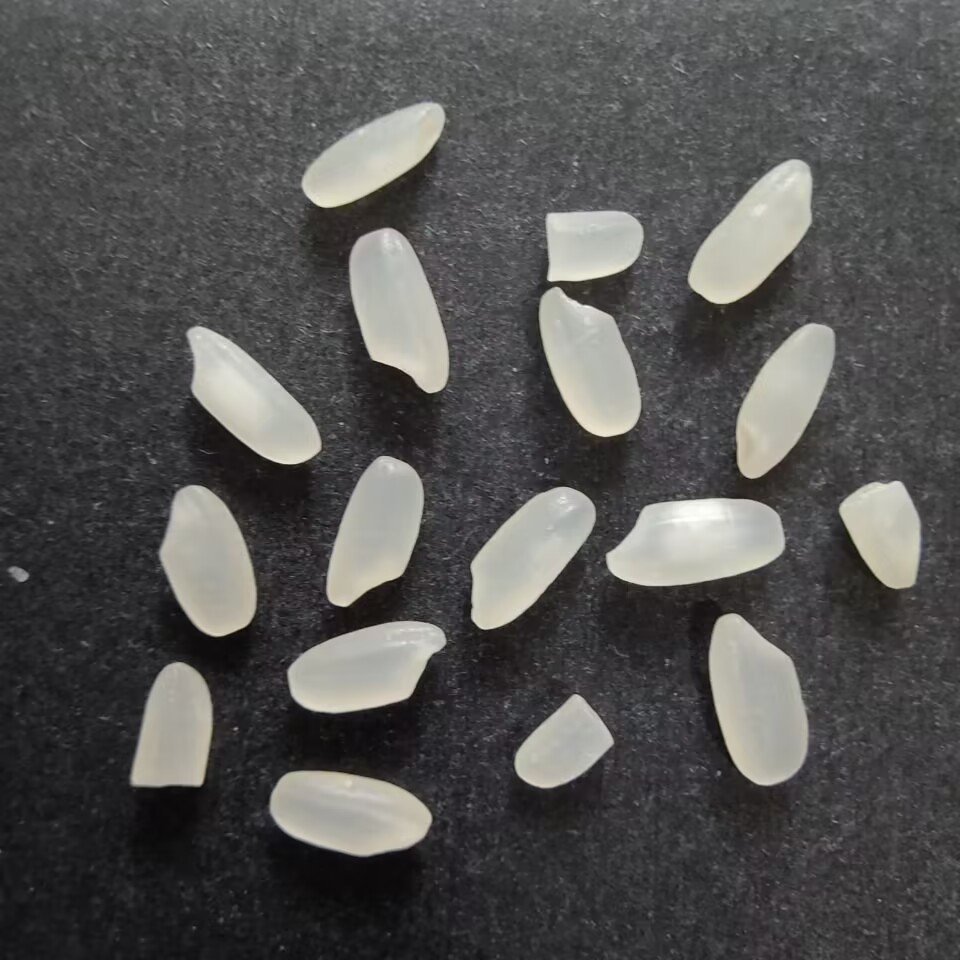broken: (125, 656, 220, 799), (834, 477, 926, 595), (512, 690, 616, 794), (538, 204, 648, 283)
rice: (181, 323, 327, 466), (685, 153, 814, 308), (467, 484, 599, 632), (705, 610, 813, 788), (348, 227, 452, 396), (732, 319, 839, 483), (603, 494, 787, 588), (536, 284, 647, 439), (323, 449, 428, 610), (156, 481, 261, 641), (285, 615, 451, 716), (264, 764, 438, 860), (300, 97, 448, 209)
